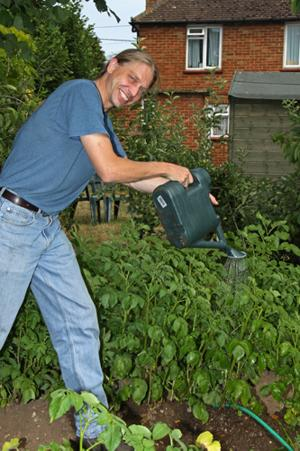person: (1, 46, 220, 449)
